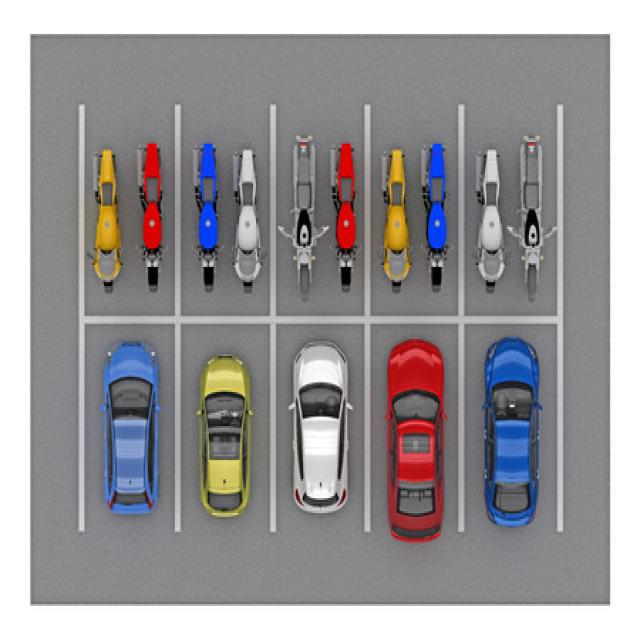ocupado: (76, 325, 560, 554), (72, 120, 563, 319)
